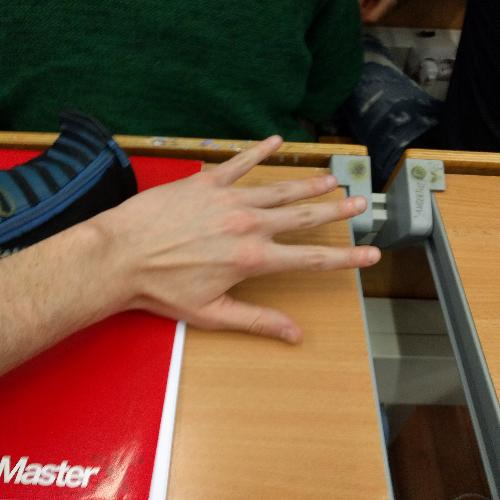paper: (88, 123, 391, 359)
